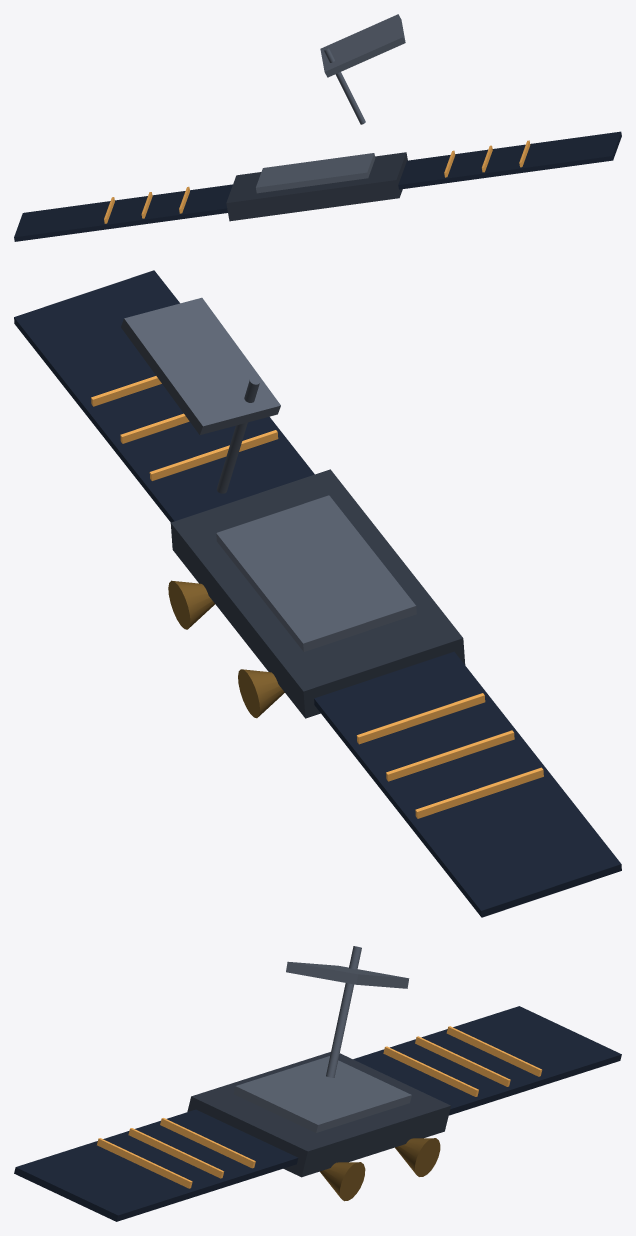
Rendered from starlink-1007.glb.
The picture shows the model from 3 angles, top to bottom: view 1: azimuth 30°, elevation 25°; view 2: azimuth 150°, elevation 25°; view 3: azimuth 270°, elevation 25°; orthographic projection. The views are drawn at different scales.
Parts seen in each view (by area): view 1: SolarPanels_Right, SolarPanels_Left, Bus_FlatBody, Payload_PhasedArrayDeck, Antenna_PhasedArray, SolarPanels, Antenna_Mast; view 2: SolarPanels_Left, SolarPanels_Right, Bus_FlatBody, Payload_PhasedArrayDeck, Antenna_PhasedArray, SolarPanels, Thrusters_Nozzle_0.38, Thrusters_Nozzle_-0.38, Antenna_Mast; view 3: SolarPanels_Right, SolarPanels_Left, Bus_FlatBody, Payload_PhasedArrayDeck, SolarPanels, Antenna_PhasedArray, Thrusters_Nozzle_-0.38, Thrusters_Nozzle_0.38, Antenna_Mast.
Part boxes in pixels (x1,y1,x2,y2): SolarPanels_Right: (398,131,621,189); SolarPanels_Left: (14,184,232,241); Bus_FlatBody: (226,152,407,221); Payload_PhasedArrayDeck: (256,153,375,193); Antenna_PhasedArray: (320,14,405,77); SolarPanels: (104,140,530,223); Antenna_Mast: (323,47,365,124); SolarPanels_Left: (314,651,621,917); SolarPanels_Right: (14,270,314,522); Bus_FlatBody: (170,469,465,718); Payload_PhasedArrayDeck: (216,495,416,651); Antenna_PhasedArray: (121,297,280,434); SolarPanels: (91,376,543,818); Thrusters_Nozzle_0.38: (168,580,214,629); Thrusters_Nozzle_-0.38: (238,669,284,718); Antenna_Mast: (216,377,260,493); SolarPanels_Right: (14,1109,298,1221); SolarPanels_Left: (353,1006,621,1115); Bus_FlatBody: (187,1052,450,1177); Payload_PhasedArrayDeck: (233,1056,411,1132); SolarPanels: (97,1026,542,1188); Antenna_PhasedArray: (286,961,409,988); Thrusters_Nozzle_-0.38: (395,1138,440,1176); Thrusters_Nozzle_0.38: (320,1162,365,1201); Antenna_Mast: (326,946,361,1077).
Bounding box in the file's own units: 5.47 × 2.19 × 4.1.
